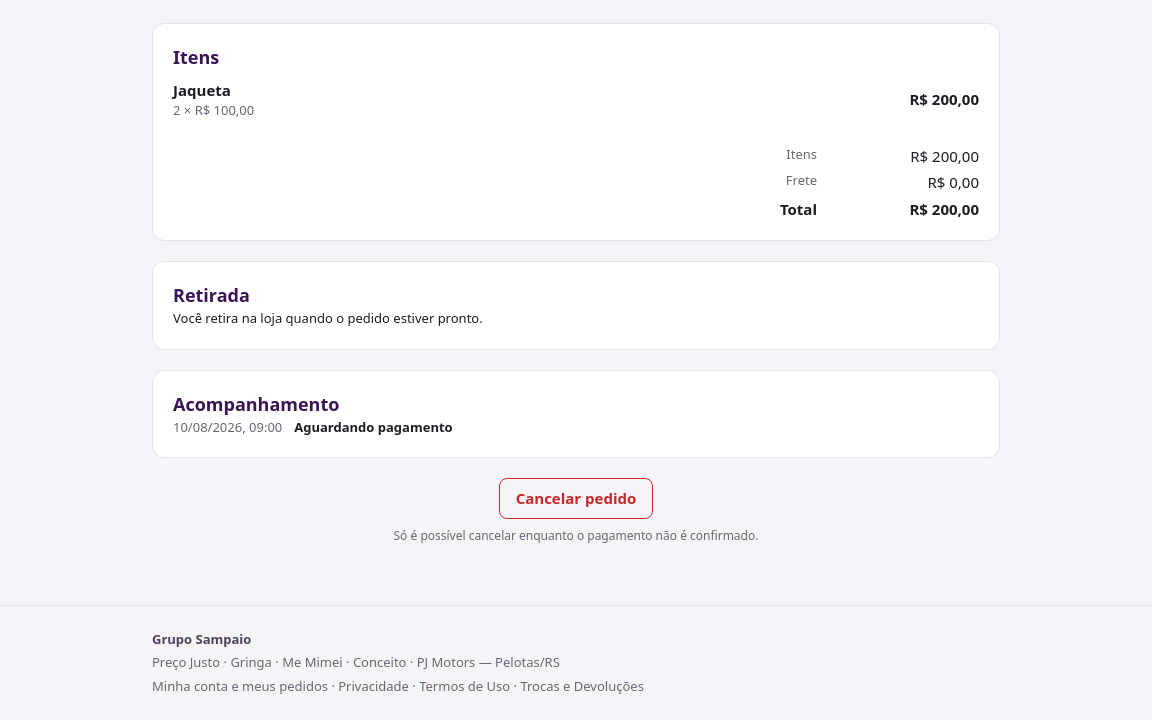
Test: o diálogo de cancelar segura o teclado e mostra o próprio erro › o erro do cancelamento aparece DENTRO do diálogo, não atrás do véu
This screenshot has width=1152, height=720.
(page scrolled)
Click the button "Cancelar pedido" at (576, 498), box x1=499 y1=478 x2=653 y2=518
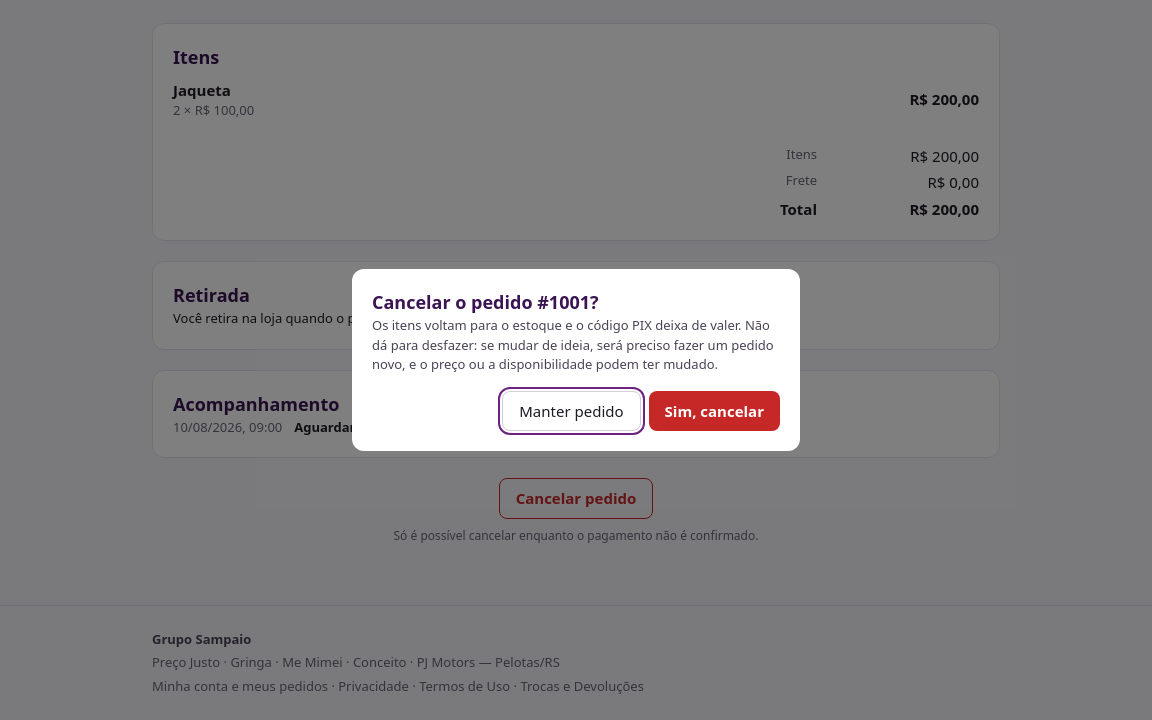
Click the button "Sim, cancelar" at (714, 411), box x1=649 y1=390 x2=780 y2=431
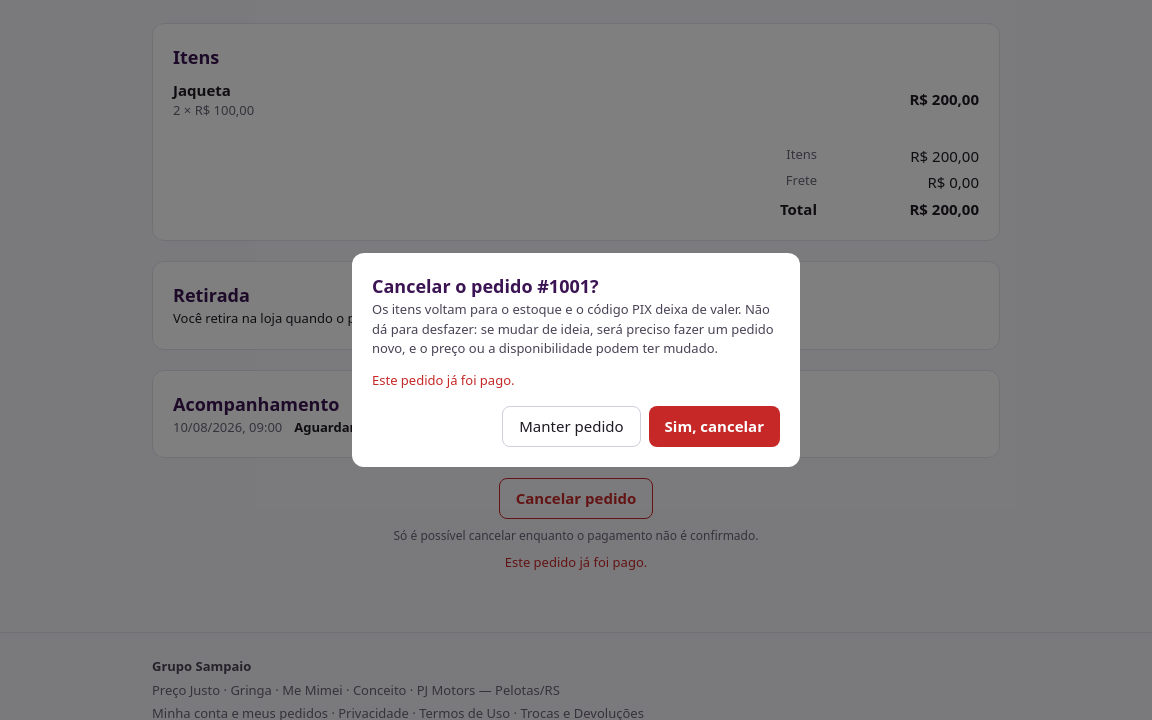
Result: the dialog shows "Este pedido já foi pago." at x1=372 y1=371 x2=514 y2=389
